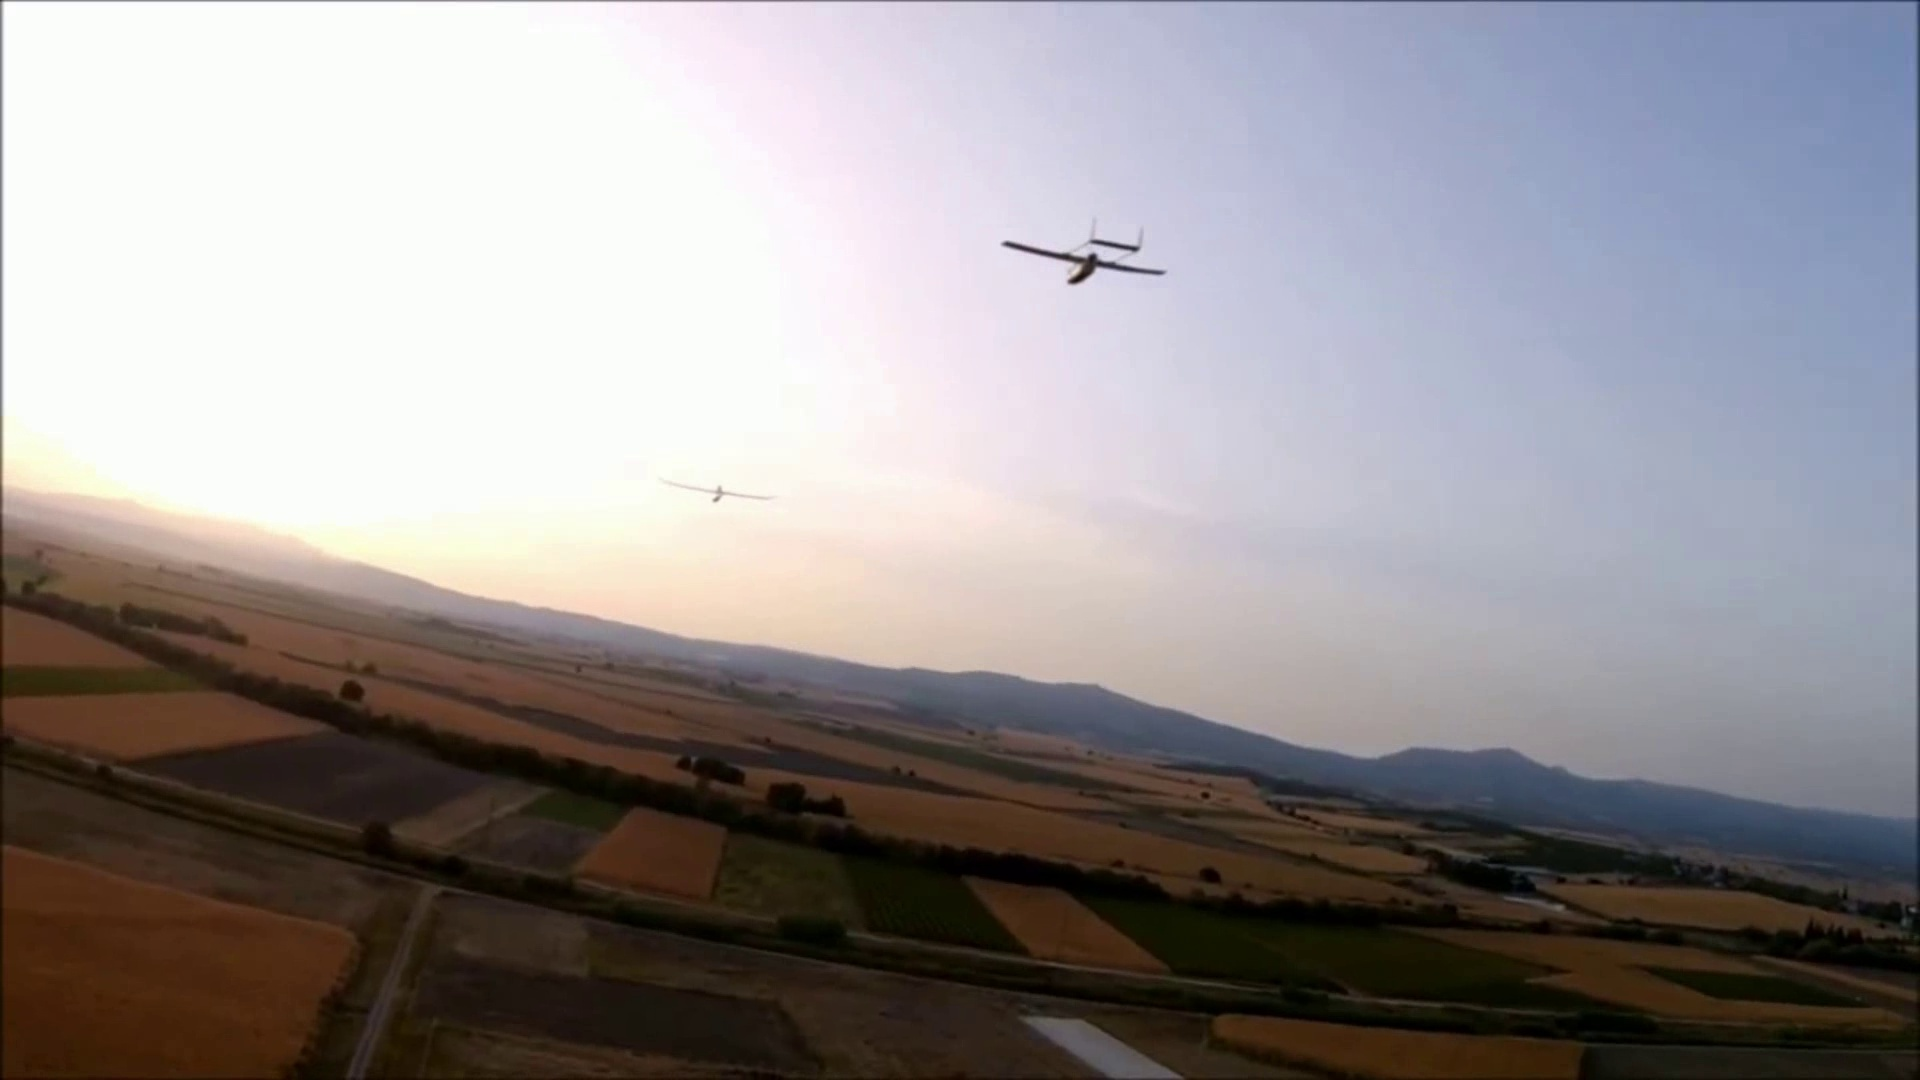airplane: (998, 223, 1168, 286)
